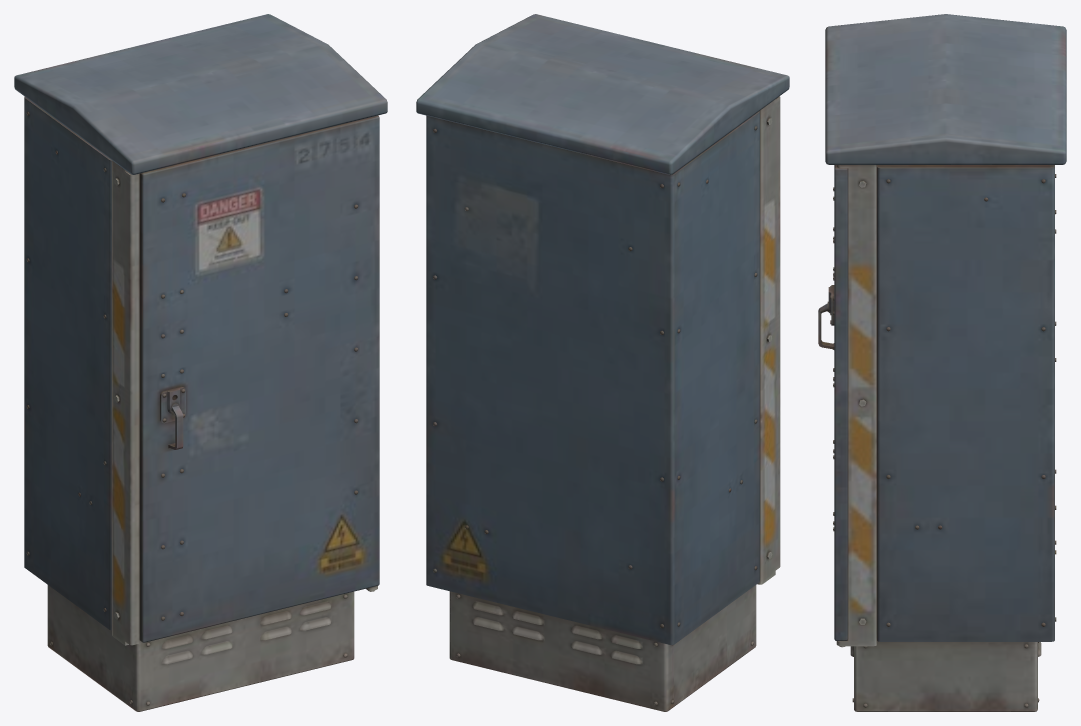
The picture shows the model from 3 angles, left to right: view 1: azimuth 30°, elevation 25°; view 2: azimuth 150°, elevation 25°; view 3: azimuth 270°, elevation 25°; orthographic projection.
Visible parts, largest first — view 1: utility_box_01_box; view 2: utility_box_01_box; view 3: utility_box_01_box.
Part boxes in pixels (<box>): utility_box_01_box: <box>14,14,387,711</box>; utility_box_01_box: <box>416,14,789,711</box>; utility_box_01_box: <box>818,14,1066,711</box>.
Size of the model in its own units: 0.52 by 1.12 by 0.432.
Materials: 1 (1 with a texture image).
